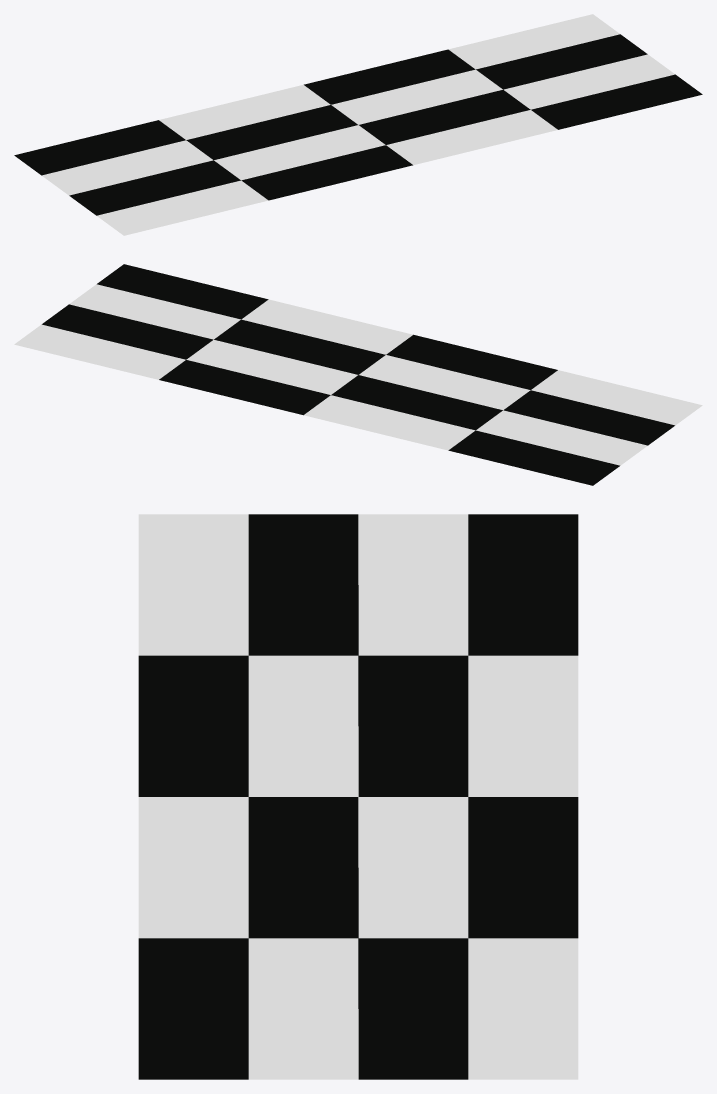
File: FinishLine.fbx
The picture shows the model from 3 angles, top to bottom: view 1: azimuth 30°, elevation 25°; view 2: azimuth 150°, elevation 25°; view 3: azimuth 270°, elevation 25°; orthographic projection. The views are drawn at different scales.
Parts seen in each view (by area): view 1: Plane; view 2: Plane; view 3: Plane.
Boxes of the visible parts, x1,y1,x2,y2 form: Plane: [14, 14, 702, 235]; Plane: [14, 264, 702, 485]; Plane: [138, 514, 578, 1079].
Size of the model in its own units: 1528 by 0 by 503.
